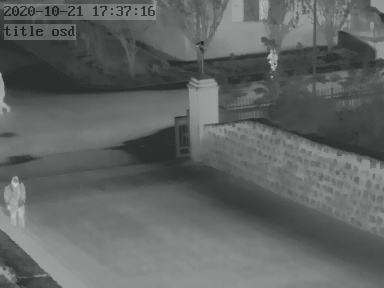person: (2, 173, 27, 226), (265, 45, 278, 72)
